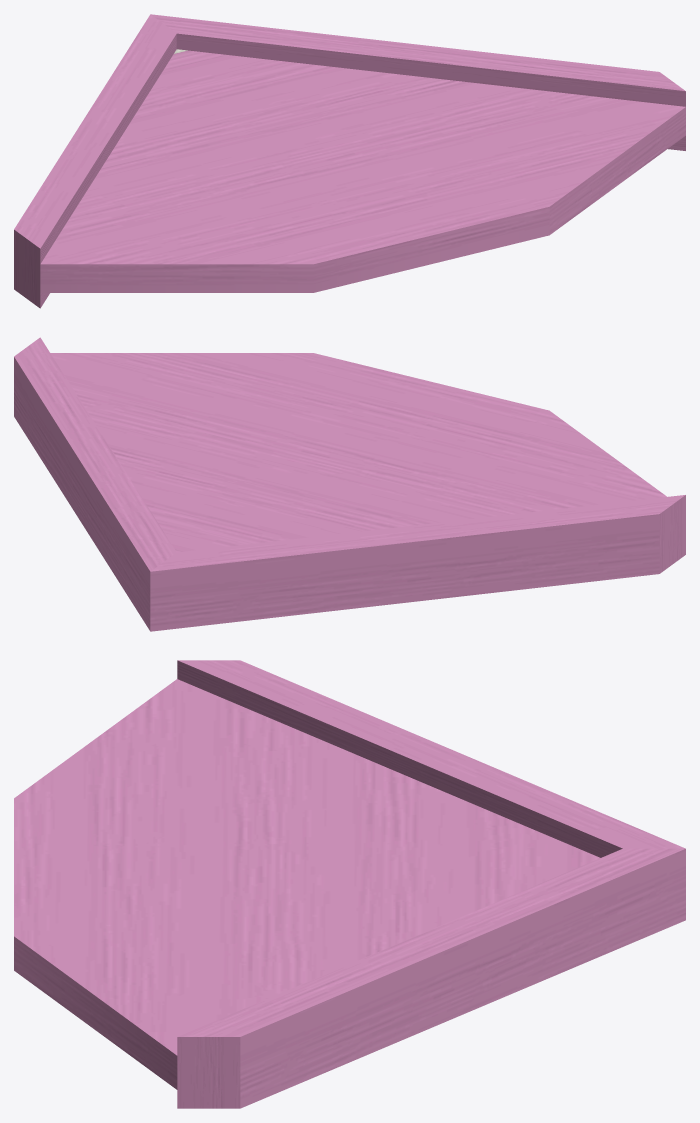
Rendered from Corner_Shelving_B_10.FBX.
3 renders of one model, top to bottom at view 1: azimuth 30°, elevation 25°; view 2: azimuth 150°, elevation 25°; view 3: azimuth 270°, elevation 25°, orthographic. The views are drawn at different scales.
Visible parts, largest first — view 1: Corner_Shelving_B; view 2: Corner_Shelving_B; view 3: Corner_Shelving_B.
Boxes of the visible parts, bbox=[...] form: Corner_Shelving_B: bbox=[14, 14, 685, 308]; Corner_Shelving_B: bbox=[14, 337, 685, 631]; Corner_Shelving_B: bbox=[14, 660, 685, 1108].
Bounding box in the file's own units: 141 × 12.55 × 107.
